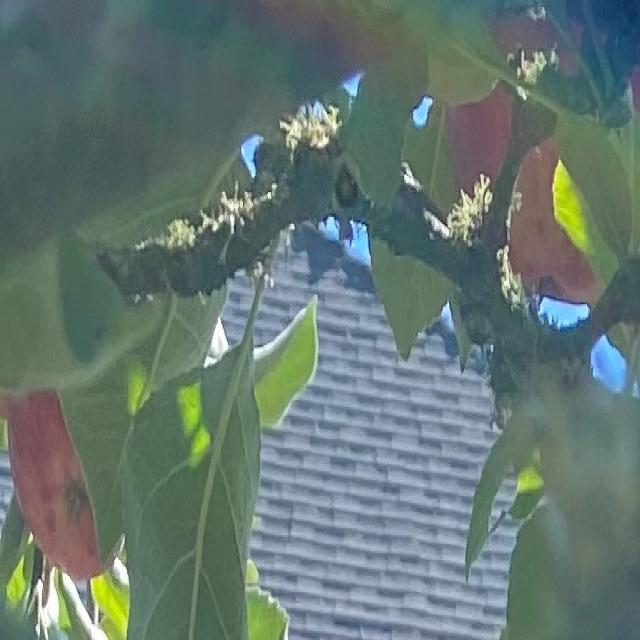Apples: (512, 130, 629, 302), (9, 388, 113, 578), (447, 78, 509, 196)
